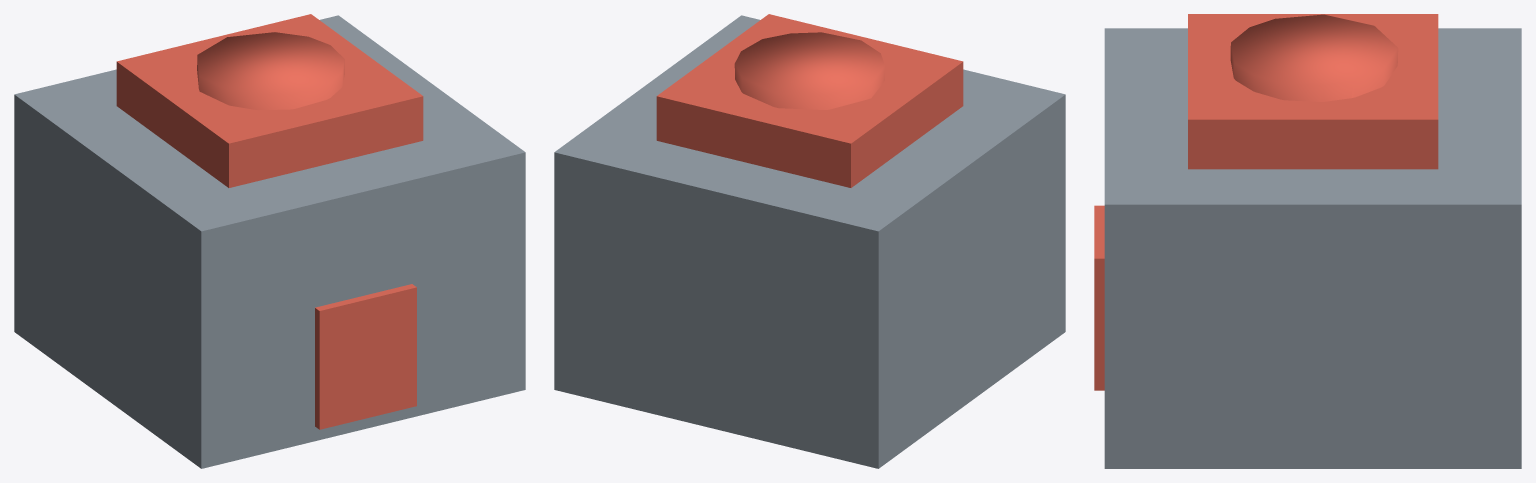
File: SU_AATurret_LOD1.glb
3 views of the same model, side by side, from view 1: azimuth 30°, elevation 25°; view 2: azimuth 150°, elevation 25°; view 3: azimuth 270°, elevation 25° (orthographic). The views are drawn at different scales.
Parts seen in each view (by area): view 1: EntranceGate; view 2: EntranceGate; view 3: EntranceGate.
Boxes of the visible parts, x1,y1,x2,y2 form: EntranceGate: [14, 14, 525, 468]; EntranceGate: [554, 14, 1065, 468]; EntranceGate: [1094, 14, 1521, 468].
Size of the model in its own units: 400 by 350 by 410.
